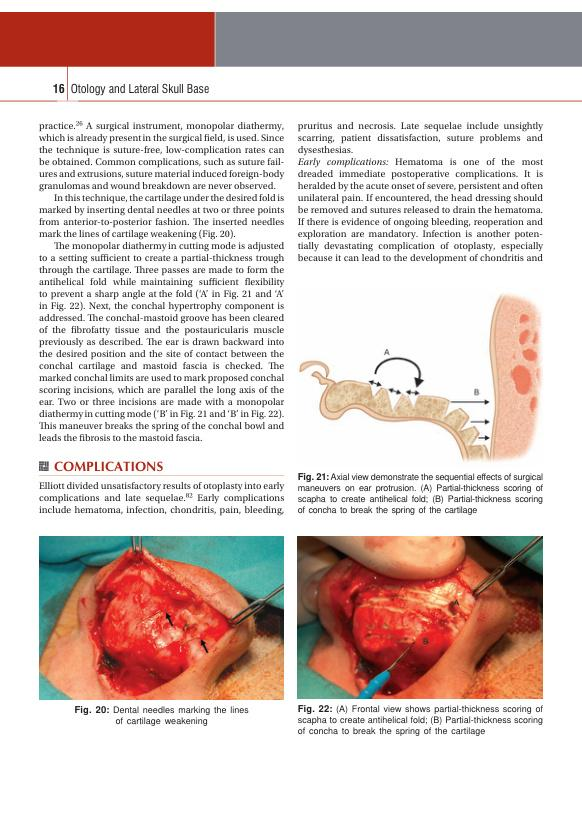caption: (296, 471, 545, 517), (296, 702, 545, 738), (73, 703, 250, 727)
header: (69, 82, 210, 97)
image: (293, 286, 549, 468), (38, 535, 284, 701), (296, 535, 544, 699)
section-heading: (52, 459, 164, 472)
text: (37, 117, 285, 443), (296, 119, 545, 265), (37, 478, 286, 517)
